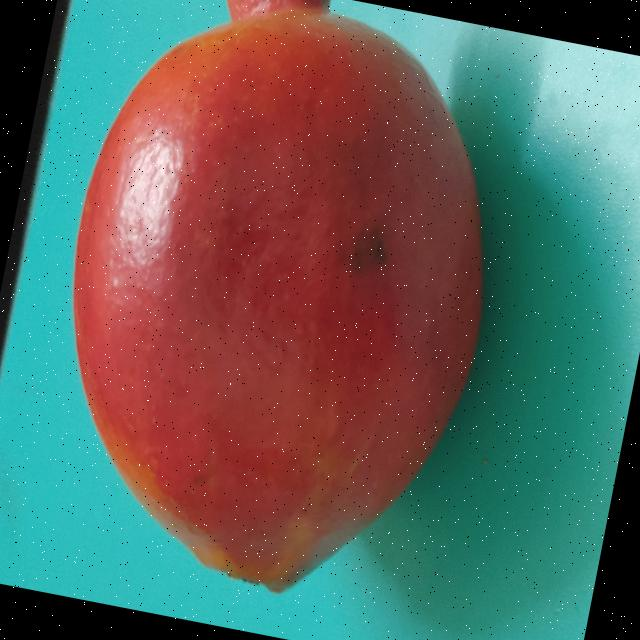Good_Pomegranate 50-60-days: (12, 0, 541, 627)
